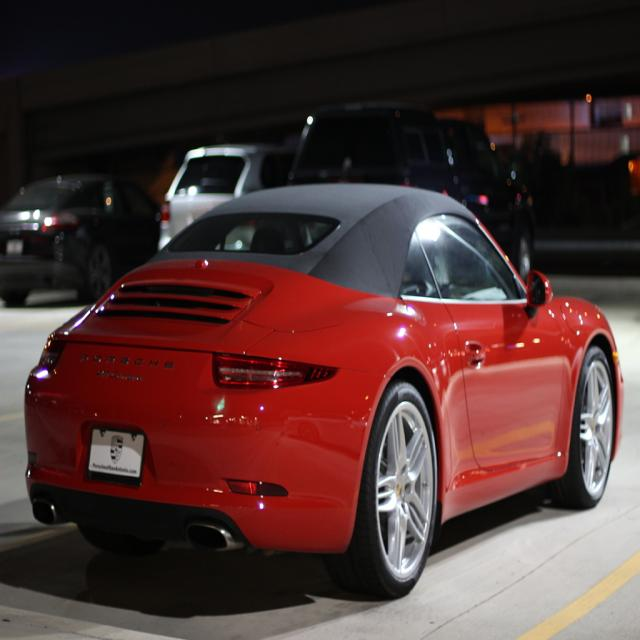car: (22, 183, 622, 600)
